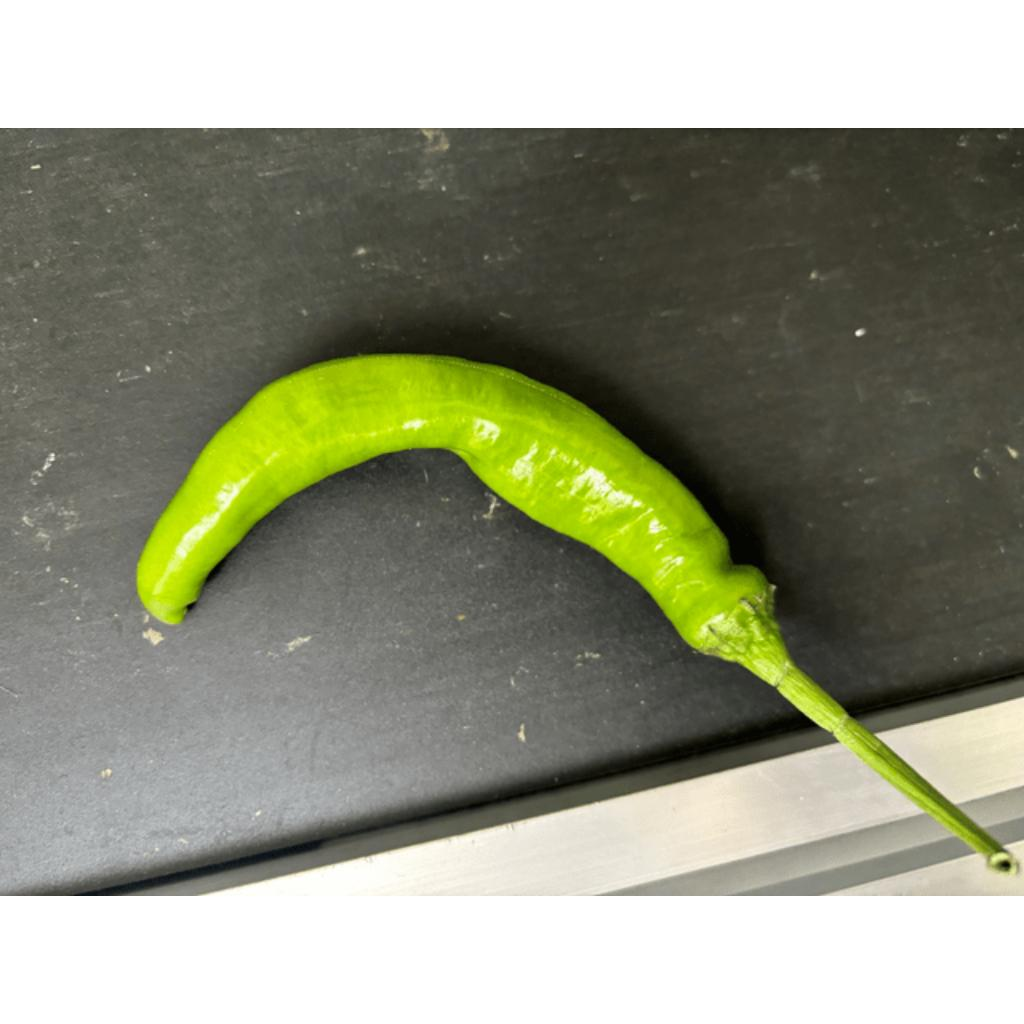chili: (135, 350, 781, 662)
